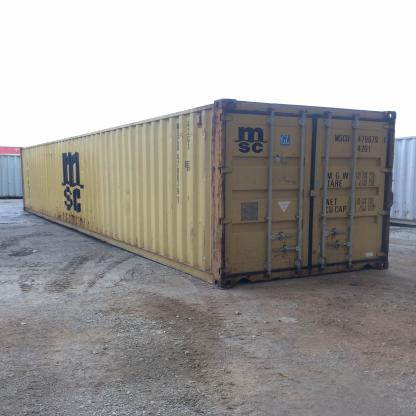Damage: (209, 108, 232, 287), (57, 208, 91, 228), (148, 247, 189, 263), (272, 248, 300, 268), (198, 220, 208, 270), (270, 173, 298, 186), (93, 224, 122, 236), (272, 152, 297, 165), (127, 235, 147, 249), (33, 150, 59, 158), (187, 220, 196, 243), (198, 121, 207, 143), (35, 206, 54, 216), (166, 132, 176, 145), (184, 192, 192, 202), (54, 199, 63, 207), (23, 202, 32, 209), (125, 189, 134, 196), (168, 204, 175, 212)
